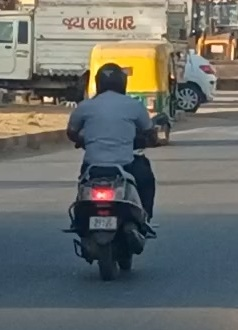BikeWithRider: (63, 60, 170, 283)
Helmet: (92, 61, 132, 99)
